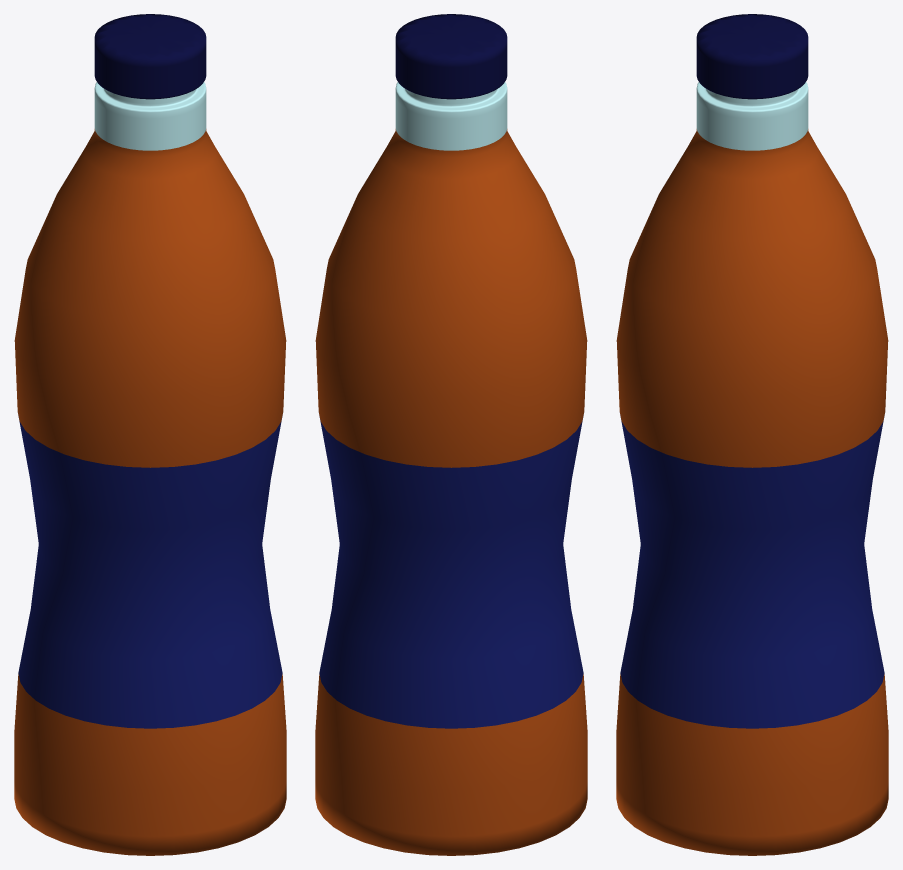
The model's file is bottle2.fbx.
3 renders of one model, left to right at view 1: azimuth 30°, elevation 25°; view 2: azimuth 150°, elevation 25°; view 3: azimuth 270°, elevation 25°, orthographic.
Parts seen in each view (by area): view 1: Cylinder002; view 2: Cylinder002; view 3: Cylinder002.
Part boxes in pixels (x1,y1,x2,y2): Cylinder002: [14, 14, 286, 855]; Cylinder002: [315, 14, 587, 855]; Cylinder002: [616, 14, 888, 855].
Size of the model in its own units: 16.43 by 51.24 by 16.43.
